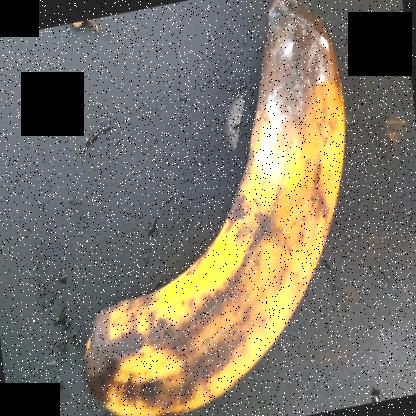overripe: (68, 22, 344, 415)
